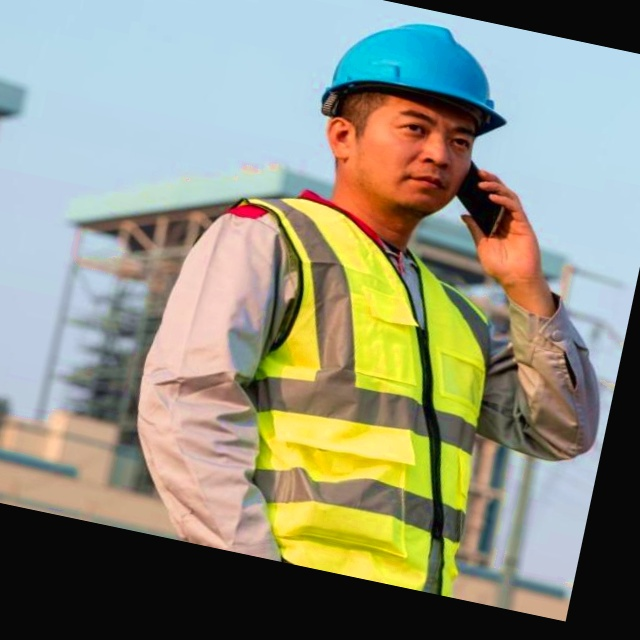Con_Casco: (300, 5, 523, 227)
Con_Chaleco: (159, 187, 534, 600)
